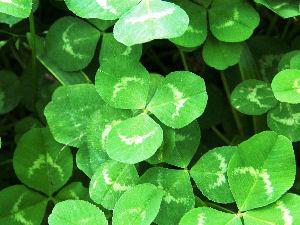clover: (1, 1, 299, 224)
